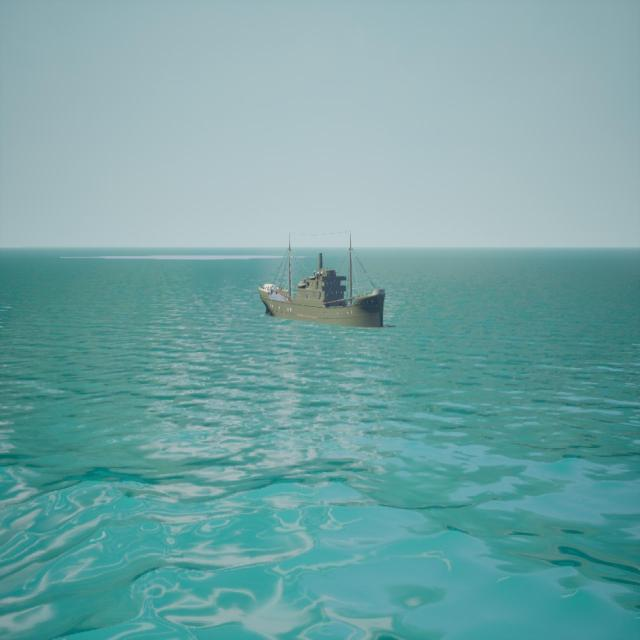fishing ship: (260, 235, 387, 332)
